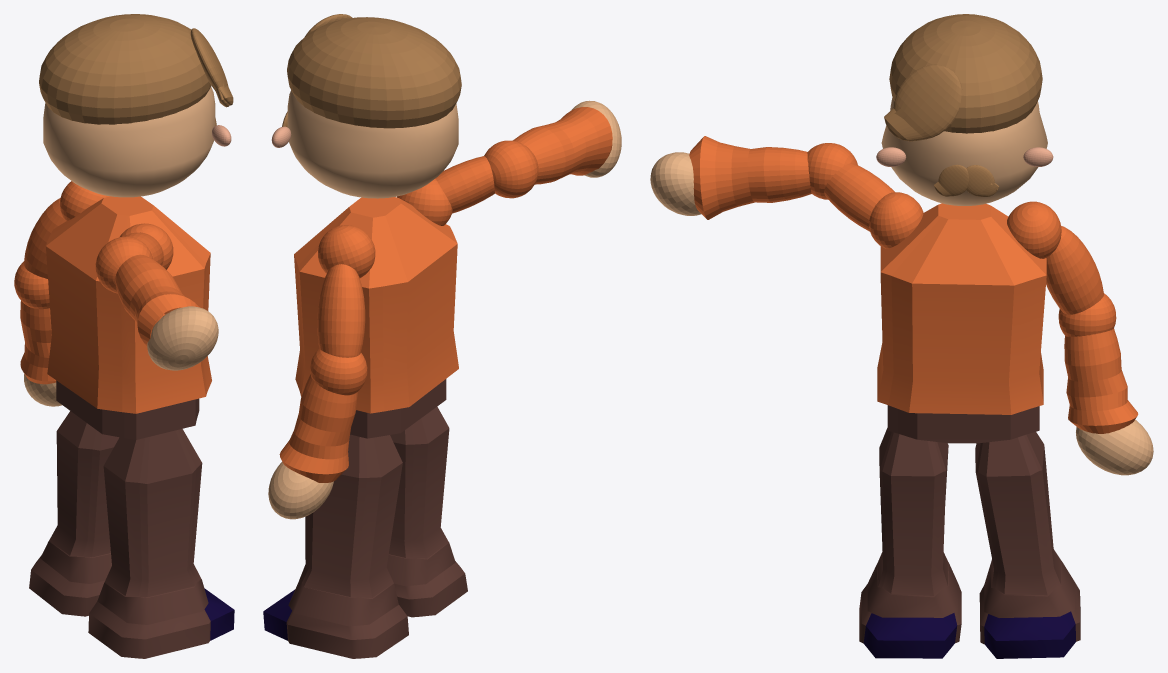
Rendered from stash guy r.fbx.
The picture shows the model from 3 angles, left to right: view 1: azimuth 30°, elevation 25°; view 2: azimuth 150°, elevation 25°; view 3: azimuth 270°, elevation 25°; orthographic projection. The views are drawn at different scales.
Parts seen in each view (by area): view 1: Cube.062, Cube.058, Sphere.238, Sphere.239, Cube.059, Sphere.240, trousers.017, Sphere.243, Sphere.226, Sphere.242, Sphere.228, Sphere.237 (+7 smaller); view 2: Cube.058, Cube.059, Sphere.238, Sphere.239, Cube.062, Sphere.226, Sphere.240, Sphere.228, Sphere.225, Sphere.242, trousers.017, Sphere.236 (+5 smaller); view 3: Cube.058, Cube.059, Cube.062, Sphere.238, Sphere.239, Sphere.240, Sphere.226, Sphere.237, trousers.017, Cube.061, Cube.060, Sphere.228 (+9 smaller).
Part boxes in pixels (x1,y1,x2,y2): Cube.062: (88,429,210,658); Cube.058: (46,196,211,413); Sphere.238: (39,14,211,124); Sphere.239: (43,86,215,197); Cube.059: (29,411,119,616); Sphere.240: (115,254,198,345); trousers.017: (56,380,199,439); Sphere.243: (147,306,218,370); Sphere.226: (20,300,56,384); Sphere.242: (95,236,152,293); Sphere.228: (24,198,65,278); Sphere.237: (190,28,233,107); Cube.058: (294,197,458,413); Cube.059: (286,434,408,658); Sphere.238: (287,17,461,128); Sphere.239: (287,90,458,198); Cube.062: (386,406,467,617); Sphere.226: (279,374,357,482); Sphere.240: (513,107,612,184); Sphere.228: (317,264,365,357); Sphere.225: (268,462,333,519); Sphere.242: (484,140,538,198); trousers.017: (350,379,446,438); Sphere.236: (435,156,494,213); Cube.058: (877,203,1046,414); Cube.059: (975,432,1080,644); Cube.062: (859,428,961,643); Sphere.238: (889,14,1042,133); Sphere.239: (881,97,1047,205); Sphere.240: (689,136,811,219); Sphere.226: (1064,328,1138,433); Sphere.237: (884,64,962,141); trousers.017: (887,405,1039,443); Cube.061: (863,613,957,658); Cube.060: (984,611,1075,658); Sphere.228: (1046,226,1103,314).
Bounding box in the file's own units: 238 × 677 × 514.
